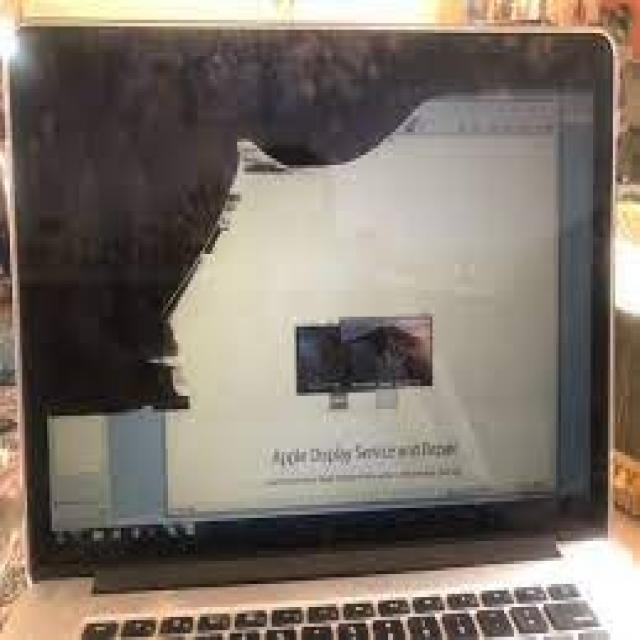Screen cracks: (12, 66, 504, 422)
